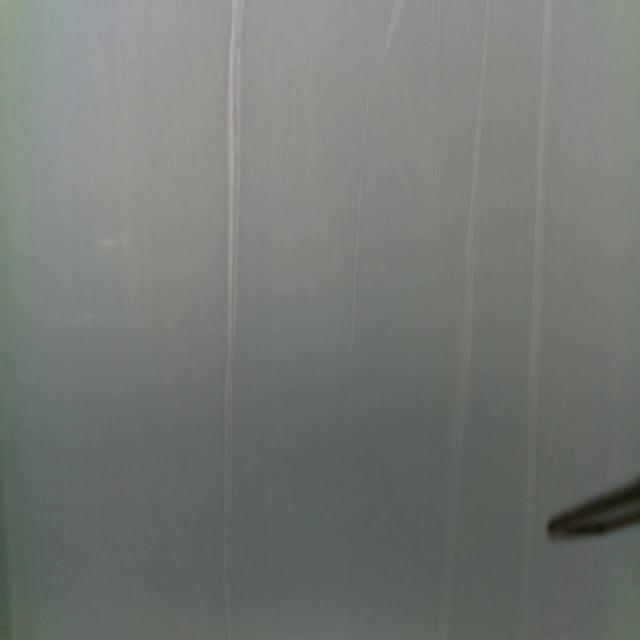crease: (436, 0, 490, 636), (514, 0, 554, 639), (220, 0, 247, 639), (348, 74, 370, 376)
